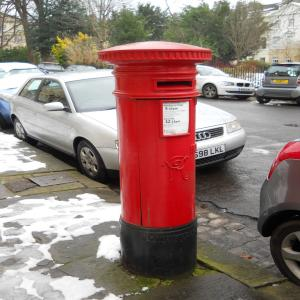Vehicle-registration-plate: (196, 143, 229, 162), (272, 80, 290, 85), (238, 88, 252, 92)
